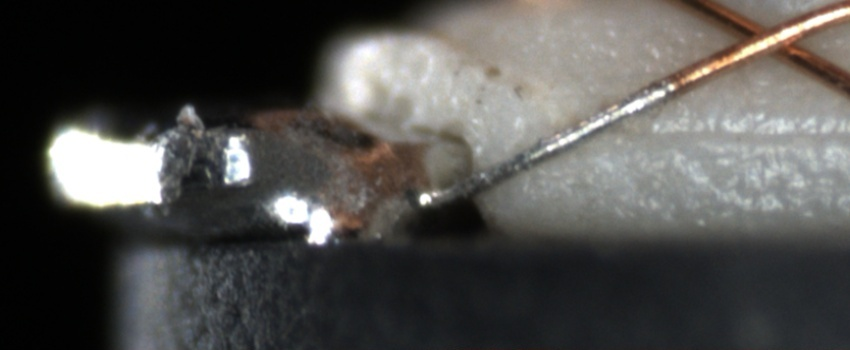CL: (717, 4, 821, 68)
DL: (610, 103, 850, 162)
TS: (418, 77, 673, 210)
